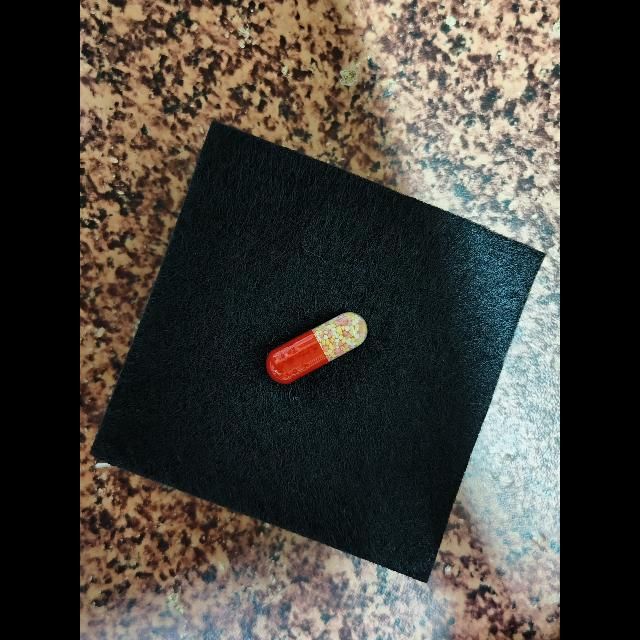Intact Capsule: (266, 312, 367, 384)
